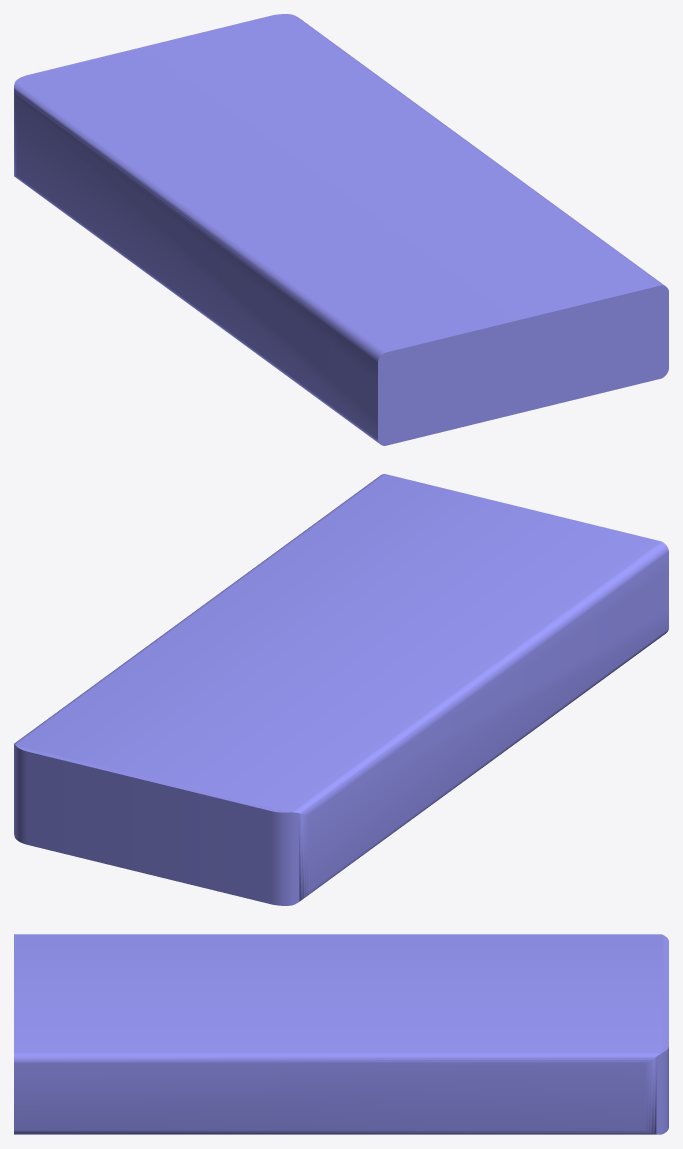
File: original-3.obj
The picture shows the model from 3 angles, top to bottom: view 1: azimuth 30°, elevation 25°; view 2: azimuth 150°, elevation 25°; view 3: azimuth 270°, elevation 25°; orthographic projection. The views are drawn at different scales.
Parts seen in each view (by area): view 1: Group3/mesh1/mesh1-geometry#mesh1-geometry; view 2: Group3/mesh1/mesh1-geometry#mesh1-geometry; view 3: Group3/mesh1/mesh1-geometry#mesh1-geometry.
Part boxes in pixels (x1,y1,x2,y2): Group3/mesh1/mesh1-geometry#mesh1-geometry: (14,14,668,445); Group3/mesh1/mesh1-geometry#mesh1-geometry: (14,474,668,905); Group3/mesh1/mesh1-geometry#mesh1-geometry: (14,934,668,1134).
Size of the model in its own units: 0.4533 by 0.1388 by 1.01.
